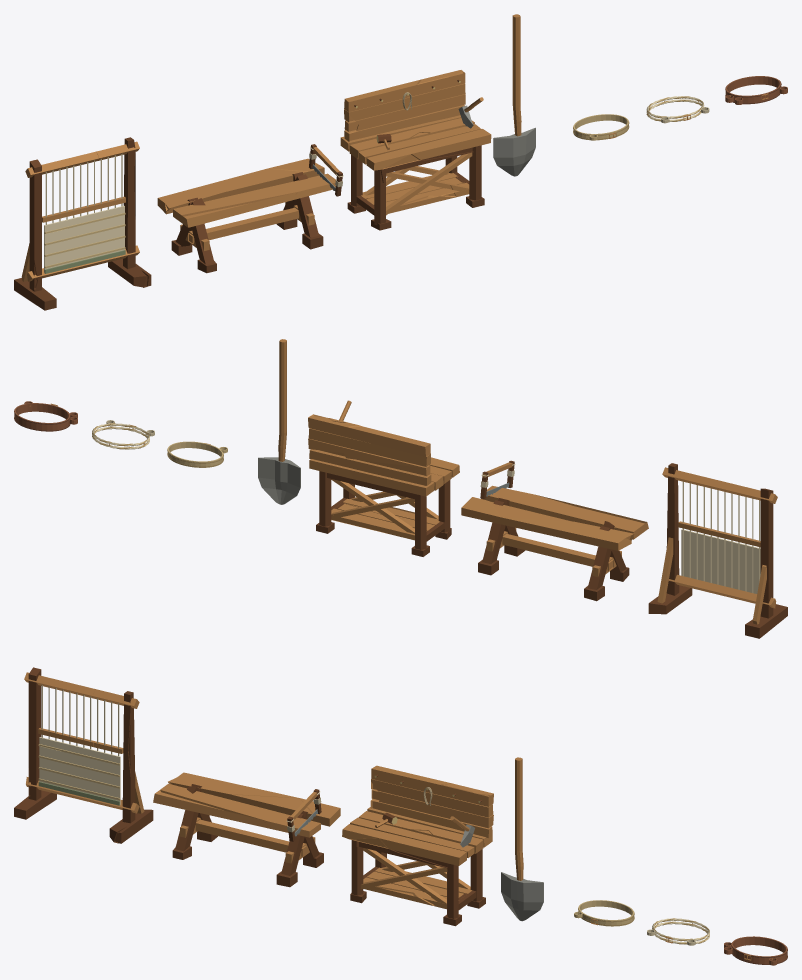
Rendered from HasarlıCIZBIZ_Tezgahlar_Dogal_Halat.fbx.
3 views of the same model, one above another, from view 1: azimuth 30°, elevation 25°; view 2: azimuth 150°, elevation 25°; view 3: azimuth 330°, elevation 25° (orthographic).
Parts seen in each view (by area): view 1: ÇalışmaTezgahı, DokumaTezgahı, KeresteTezgahı, Kürek, 3. Kemer, 1. Kemer, 2. Kemer, Testere, DokumaTezgahı.001; view 2: ÇalışmaTezgahı, DokumaTezgahı, KeresteTezgahı, Kürek, 3. Kemer, 1. Kemer, 2. Kemer, Testere, DokumaTezgahı.001; view 3: ÇalışmaTezgahı, DokumaTezgahı, KeresteTezgahı, Kürek, 3. Kemer, 1. Kemer, 2. Kemer, Testere, DokumaTezgahı.001.
Boxes of the visible parts, x1,y1,x2,y2 form: ÇalışmaTezgahı: (340, 70, 491, 230); DokumaTezgahı: (14, 137, 151, 310); KeresteTezgahı: (157, 158, 335, 273); Kürek: (493, 14, 535, 176); 3. Kemer: (725, 76, 787, 104); 1. Kemer: (573, 114, 629, 140); 2. Kemer: (646, 96, 709, 123); Testere: (309, 144, 343, 196); DokumaTezgahı.001: (42, 196, 125, 222); ÇalışmaTezgahı: (308, 414, 459, 556); DokumaTezgahı: (648, 463, 787, 638); KeresteTezgahı: (461, 485, 648, 601); Kürek: (258, 339, 300, 504); 3. Kemer: (14, 401, 77, 431); 1. Kemer: (167, 441, 227, 467); 2. Kemer: (92, 420, 154, 449); Testere: (480, 460, 515, 498); DokumaTezgahı.001: (678, 521, 760, 547); ÇalışmaTezgahı: (342, 765, 493, 926); DokumaTezgahı: (14, 667, 153, 843); KeresteTezgahı: (153, 772, 340, 887); Kürek: (501, 757, 543, 921); 3. Kemer: (724, 936, 787, 965); 1. Kemer: (574, 900, 634, 926); 2. Kemer: (647, 918, 709, 945); Testere: (286, 789, 321, 841); DokumaTezgahı.001: (38, 728, 123, 753).
Bounding box in the file's own units: 29.14 × 6.19 × 2.92.
